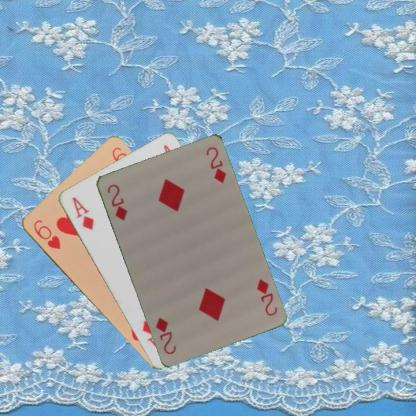2d: (104, 181, 129, 222), (253, 276, 278, 317)
6h: (30, 216, 62, 250)
Ad: (69, 194, 95, 231)
